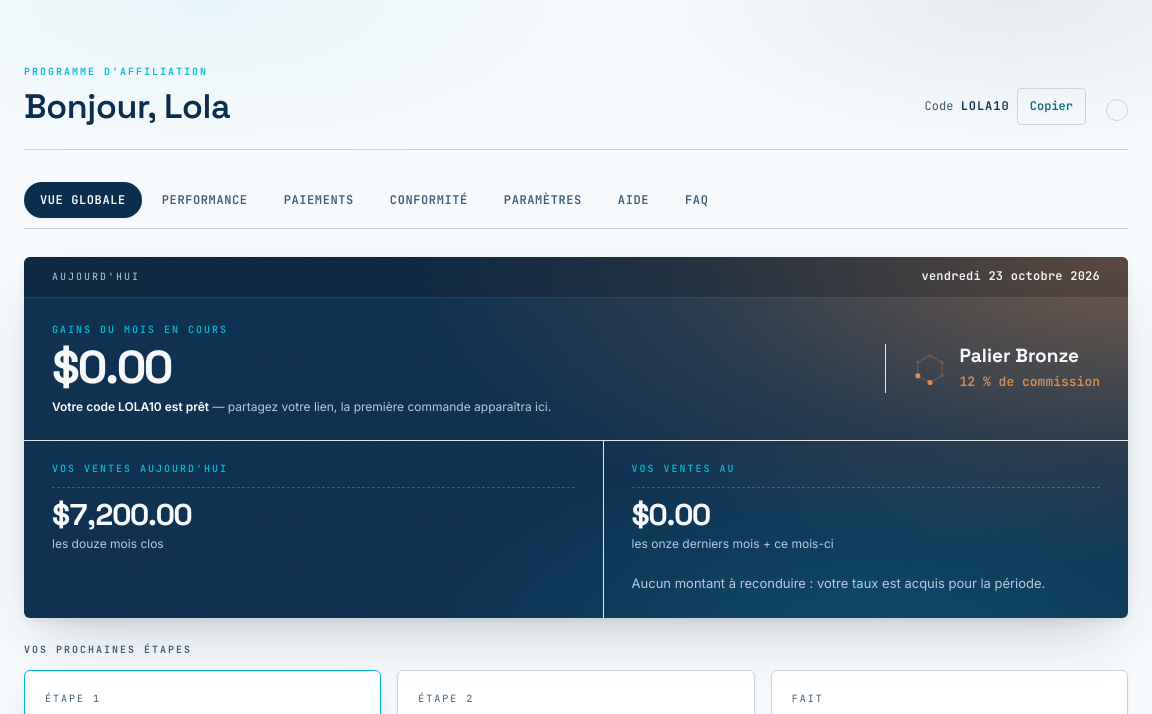
Test case: la créance sur le prochain versement › et les trois nombres sont dits, pas seulement le net
Click the button with test id "affiliate-tab-payments" at (319, 200), box [268,182,370,218]
(page scrolled)
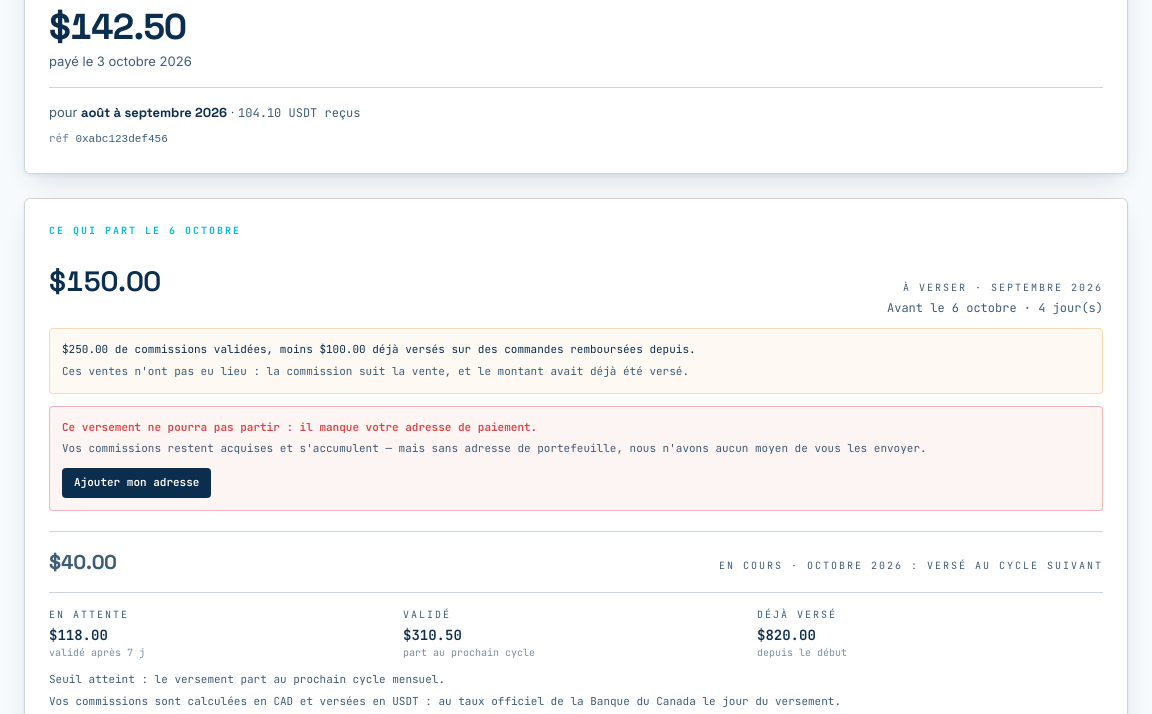
Check: the element with test id "cycle-creance" shows "250.00", box [62,342,696,356]
Check: the element with test id "cycle-creance" shows "100.00", box [62,342,696,356]
Check: the element with test id "cycle-creance" shows "rembours", box [62,342,696,356]
